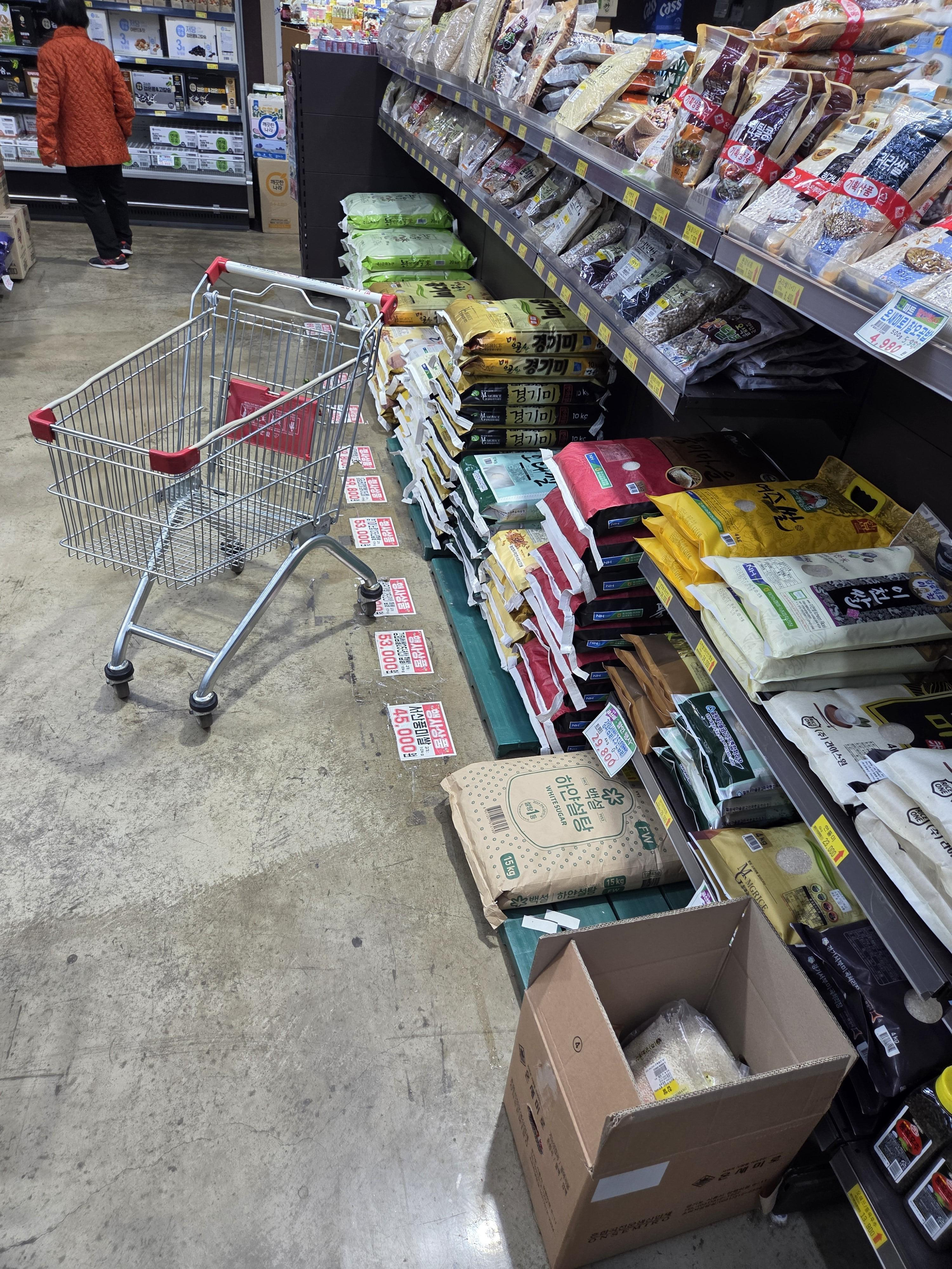empty_cart: (22, 261, 413, 731)
